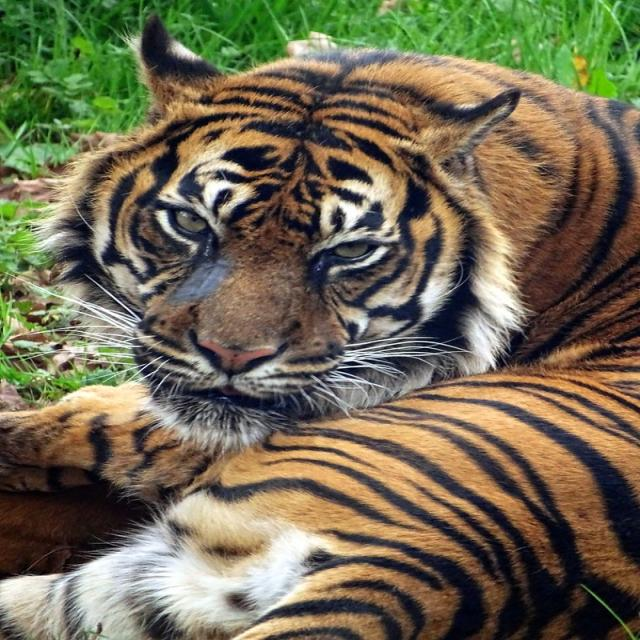Tiger: (2, 10, 635, 637)
